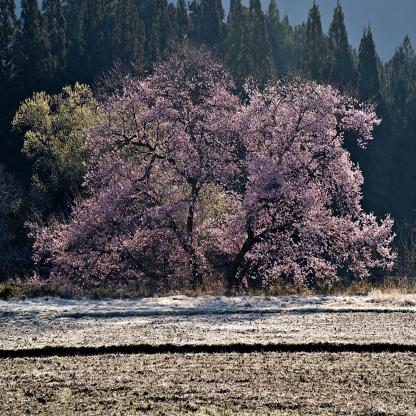EdohiganSakura: (22, 36, 399, 299)
